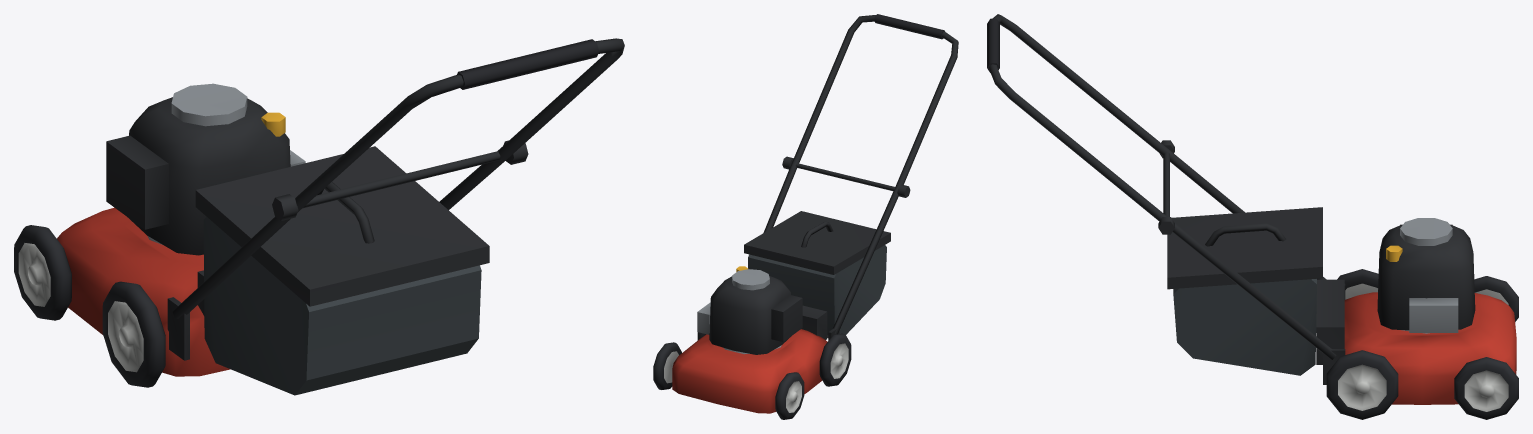
The model's file is lawnMower.far.glb.
The picture shows the model from 3 angles, left to right: view 1: azimuth 30°, elevation 25°; view 2: azimuth 150°, elevation 25°; view 3: azimuth 270°, elevation 25°; orthographic projection. The views are drawn at different scales.
Parts seen in each view (by area): view 1: lawnMower; view 2: lawnMower; view 3: lawnMower.
Part boxes in pixels (x1,y1,x2,y2): lawnMower: (14,38,624,395); lawnMower: (653,14,958,419); lawnMower: (987,14,1518,419).
Bounding box in the file's own units: 0.553 × 0.9897 × 1.41.
